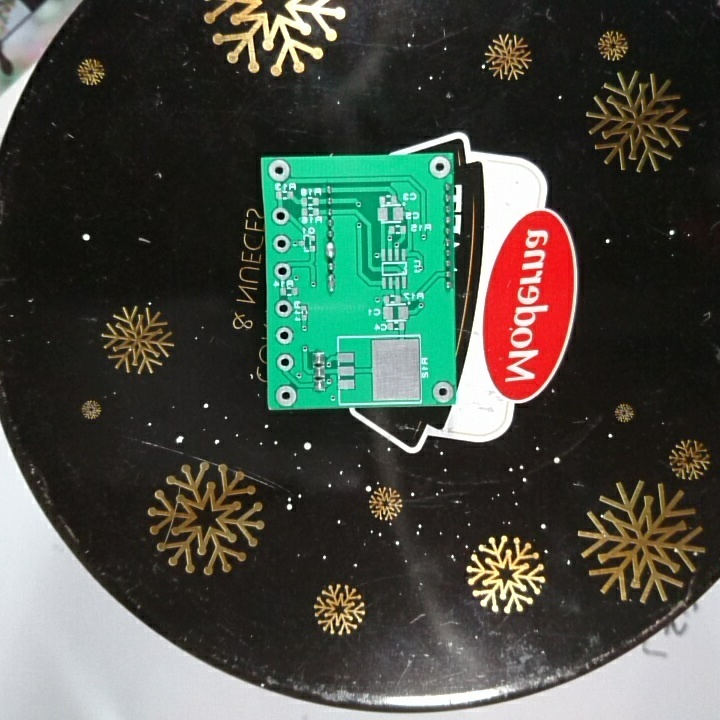F: (274, 383, 299, 409), (427, 155, 452, 180), (267, 158, 292, 183), (431, 379, 455, 403), (271, 260, 293, 283), (273, 296, 294, 320), (274, 351, 295, 374), (270, 206, 291, 228), (271, 233, 292, 255), (274, 324, 295, 346)
P: (324, 272, 339, 296), (322, 240, 339, 260)
